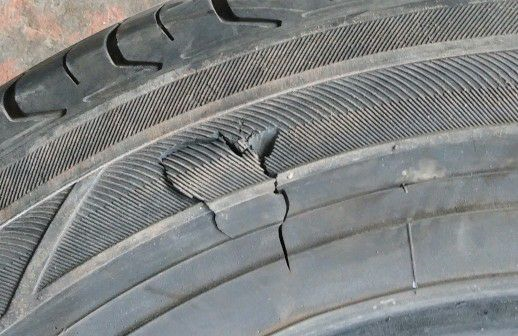cut: (157, 125, 294, 275)
